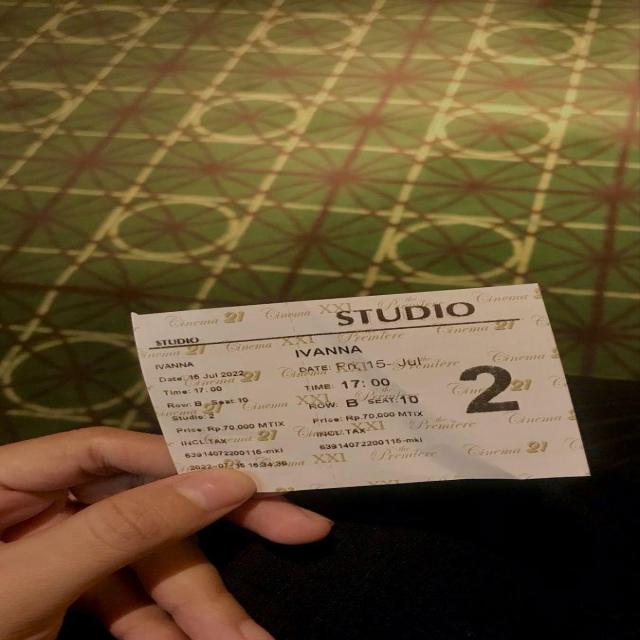date: (153, 370, 281, 382)
store: (324, 302, 487, 326)
total: (314, 409, 424, 427)
